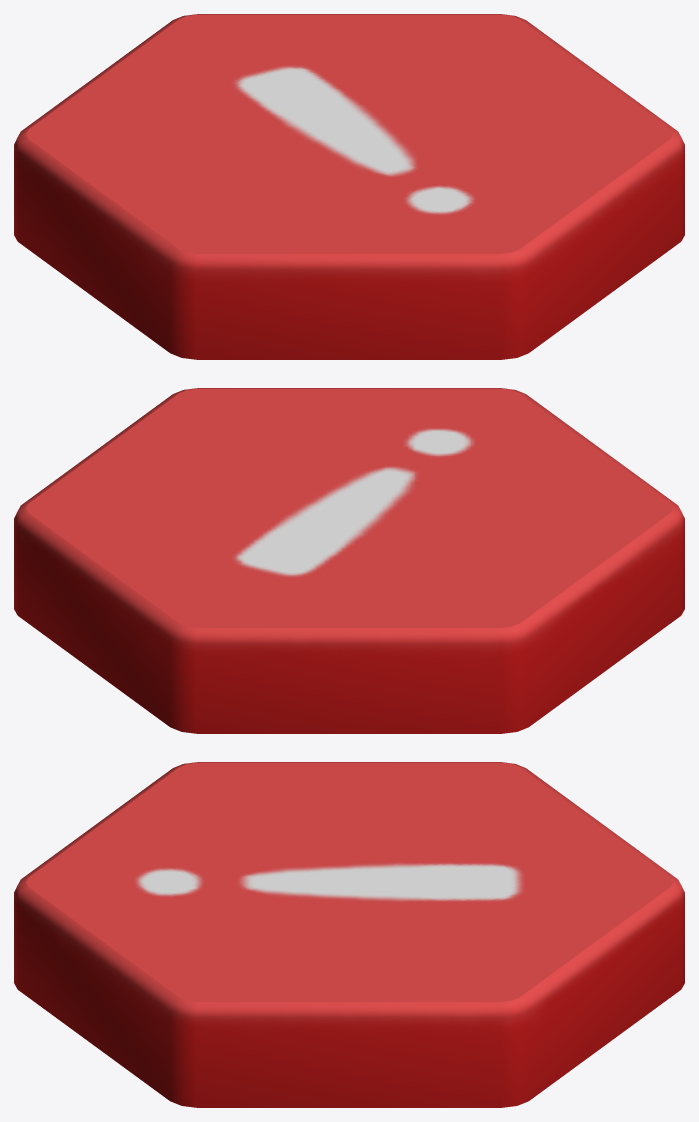
Rendered from trouble.glb.
3 renders of one model, top to bottom at view 1: azimuth 30°, elevation 25°; view 2: azimuth 150°, elevation 25°; view 3: azimuth 270°, elevation 25°, orthographic.
Visible parts, largest first — view 1: trouble; view 2: trouble; view 3: trouble.
Part boxes in pixels (x1=…): trouble: x1=14, y1=14, x2=684, y2=359; trouble: x1=14, y1=388, x2=684, y2=733; trouble: x1=14, y1=762, x2=684, y2=1107.
Size of the model in its own units: 0.3256 by 0.0614 by 0.3702.
Materials: 1 (1 with a texture image).
